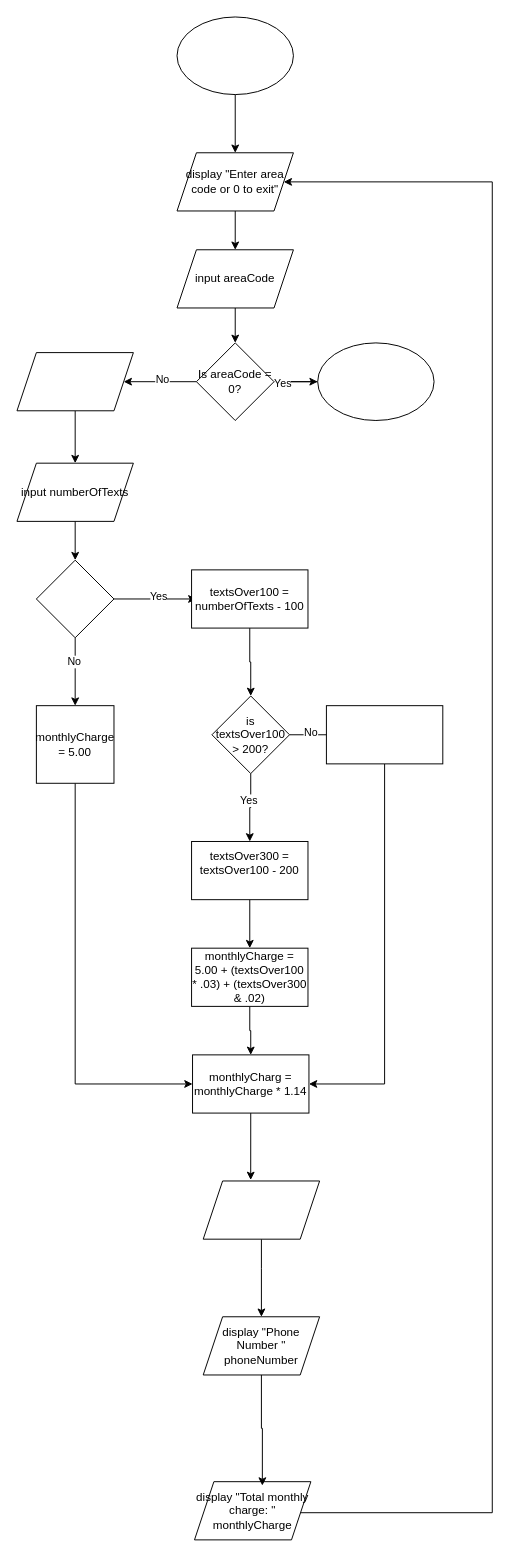
The diagram is 517 pixels wide and 1557 high, and some of its shapes have lost their labels. Each missing label, with the box of its shape:
display "Area Code : areaCode: (202, 1180, 320, 1239)
input phoneNumber: (16, 352, 133, 411)
is numberOfTexts > 100?: (35, 559, 114, 638)
monthlyCharge = 5.00 + (textsOver100 * .03): (325, 705, 443, 764)
start: (176, 16, 293, 95)
stop: (317, 342, 434, 420)
